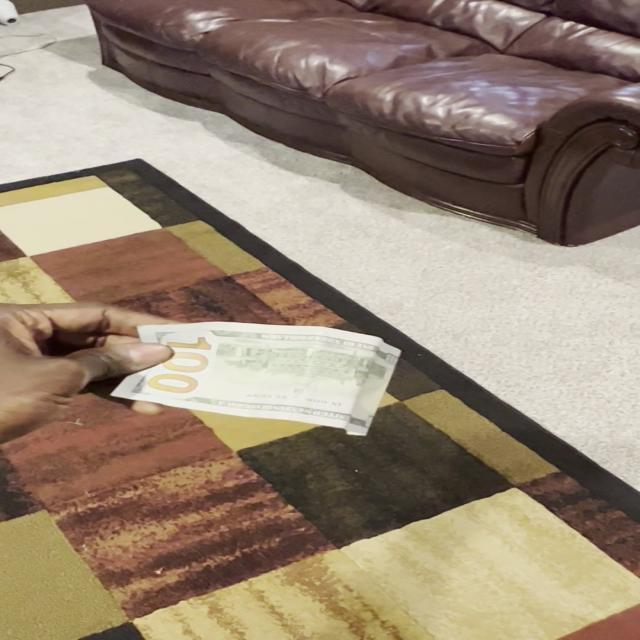hundred: (110, 322, 400, 434)
